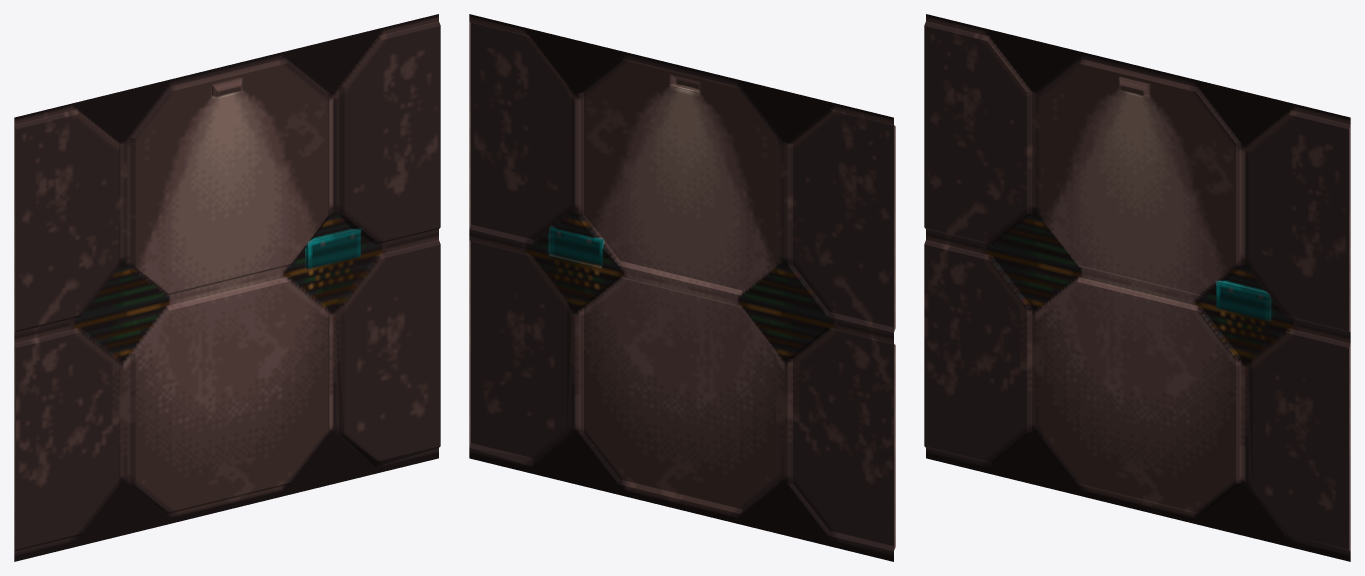
The model's file is eng1_5.fbx.
3 renders of one model, left to right at view 1: azimuth 30°, elevation 25°; view 2: azimuth 150°, elevation 25°; view 3: azimuth 330°, elevation 25°, orthographic.
Visible parts, largest first — view 1: eng1_5_mesh; view 2: eng1_5_mesh; view 3: eng1_5_mesh.
Part boxes in pixels (<box>): eng1_5_mesh: <box>14,14,440,561</box>; eng1_5_mesh: <box>469,14,895,561</box>; eng1_5_mesh: <box>924,14,1350,561</box>.
Size of the model in its own units: 256 by 256 by 5.
